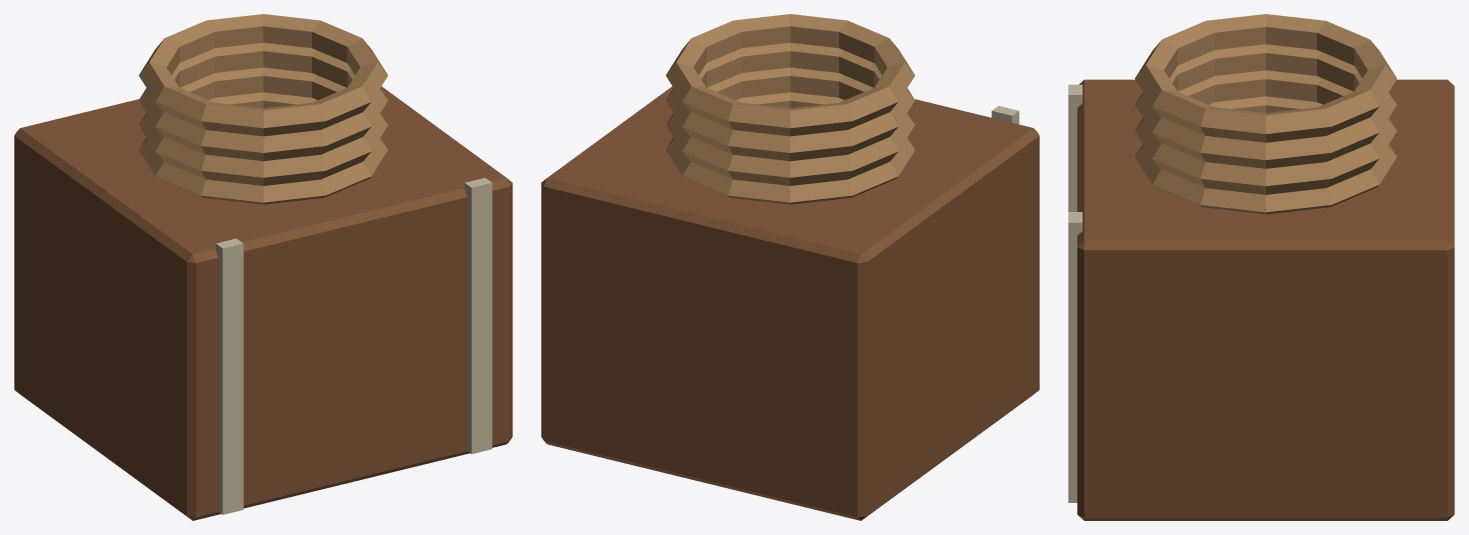
Rendered from rope_crate.glb.
3 views of the same model, side by side, from view 1: azimuth 30°, elevation 25°; view 2: azimuth 150°, elevation 25°; view 3: azimuth 270°, elevation 25° (orthographic). The views are drawn at different scales.
Visible parts, largest first — view 1: rope_crate; view 2: rope_crate; view 3: rope_crate.
Boxes of the visible parts, x1,y1,x2,y2 form: rope_crate: (14,14,512,520); rope_crate: (541,14,1039,520); rope_crate: (1068,14,1454,520).
Bounding box in the file's own units: 1.1 × 1.15 × 1.07.
